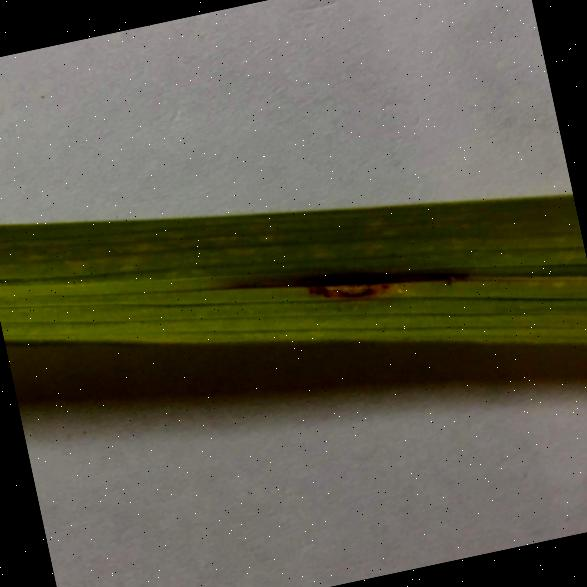Leaf_smut: (260, 197, 431, 341)
